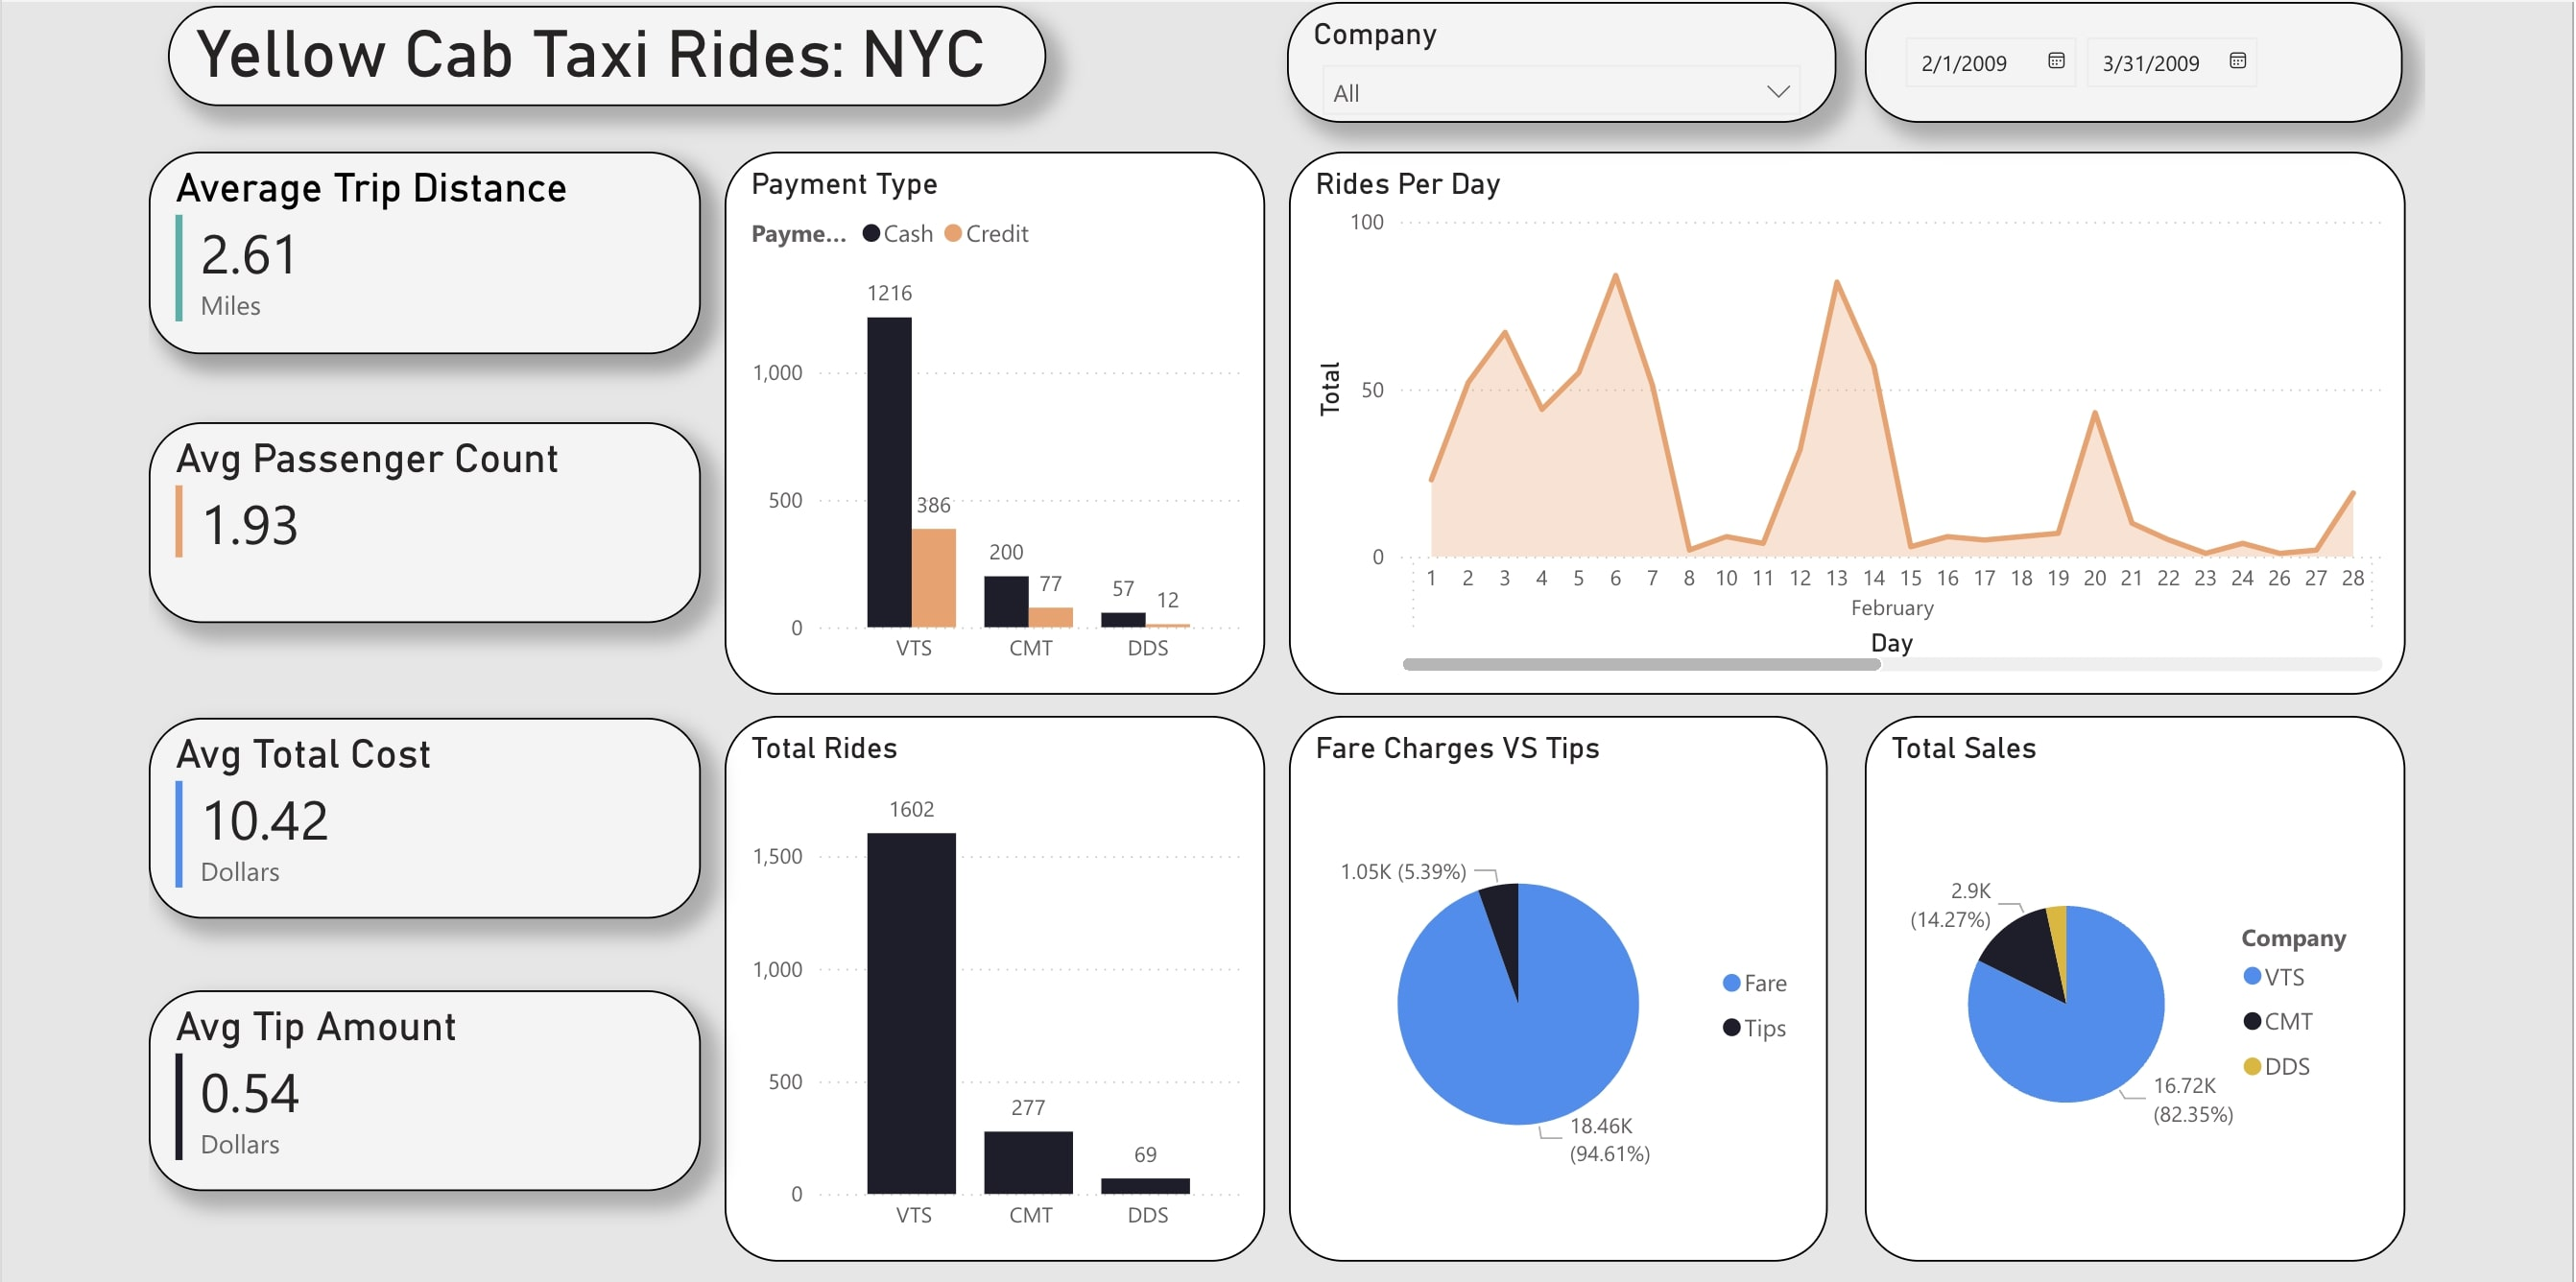

Layout of this report page (visuals, bound fields, positions):
{"tool":"powerbi","page":{"name":"Page 1","canvas":[1280,720],"ordinal":0},"visuals":[{"type":"shape","box":[12,58,1256,26],"z":0},{"type":"lineChart","title":"Rides Per Day","fields":{"Y":["Count(Table.Total_Amt)"],"Category":["Table.Trip_Dropoff_DateTime.Variation.Date Hierarchy.Month","Table.Trip_Dropoff_DateTime.Variation.Date Hierarchy.Day"]},"box":[640.8,83.9,628.1,305.4],"z":1000},{"type":"pieChart","title":"Total Sales","fields":{"Category":["Table.vendor_name"],"Y":["Sum(Table.Total_Amt)"]},"box":[965.1,401.9,303.8,306.9],"z":2000},{"type":"columnChart","title":"Total Rides ","fields":{"Category":["Table.vendor_name"],"Y":["CountNonNull(Table.vendor_name)"]},"box":[324.4,401.9,303.8,306.9],"z":3000},{"type":"multiRowCard","title":"Avg Passenger Count","fields":{"Values":["Avg(Table.Passenger_Count)"]},"box":[0,236,310.5,113],"z":4000},{"type":"multiRowCard","title":"Avg Tip Amount","fields":{"Values":["Avg(Table.Tip_Amt)"]},"box":[0,556,310.5,113],"z":5000},{"type":"multiRowCard","title":"Avg Total Cost","fields":{"Values":["Avg(Table.Total_Amt)"]},"box":[0,402.4,310.5,113],"z":6000},{"type":"multiRowCard","title":"Average Trip Distance","fields":{"Values":["Avg(Table.Trip_Distance)"]},"box":[0,83.8,310.5,114],"z":7000},{"type":"textbox","title":"Yellow Cab Taxi Rides: NYC","box":[10.5,2.6,493.9,56.3],"z":8000},{"type":"clusteredColumnChart","title":"Payment Type","fields":{"Category":["Table.vendor_name"],"Series":["Table.Payment_Type"],"Y":["CountNonNull(Table.vendor_name)"]},"box":[324.4,83.9,303.8,305.4],"z":9000},{"type":"pieChart","title":"Fare Charges VS Tips","fields":{"Y":["Sum(Table.Fare_Amt)","Sum(Table.Tip_Amt)"]},"box":[640.8,401.9,303,306.9],"z":10000},{"type":"slicer","title":"Company","fields":{"Values":["Table.vendor_name"]},"box":[640.7,0,309.2,68.1],"z":11000},{"type":"slicer","fields":{"Values":["Table.Trip_Pickup_DateTime"]},"box":[965.6,0,302.6,68.1],"z":12000}]}

Visuals, with their boxes in screenshot pixels (x1, y1, x2, y2):
shape: (182, 102, 2386, 148)
"Rides Per Day" lineChart: (1285, 147, 2388, 683)
"Total Sales" pieChart: (1854, 705, 2388, 1244)
"Total Rides " columnChart: (730, 705, 1263, 1244)
"Avg Passenger Count" multiRowCard: (161, 415, 706, 612)
"Avg Tip Amount" multiRowCard: (161, 976, 706, 1174)
"Avg Total Cost" multiRowCard: (161, 706, 706, 904)
"Average Trip Distance" multiRowCard: (161, 147, 706, 347)
"Yellow Cab Taxi Rides: NYC" textbox: (179, 5, 1046, 104)
"Payment Type" clusteredColumnChart: (730, 147, 1263, 683)
"Fare Charges VS Tips" pieChart: (1285, 705, 1818, 1244)
"Company" slicer: (1285, 0, 1828, 120)
slicer - Table.Trip_Pickup_DateTime: (1855, 0, 2387, 120)
